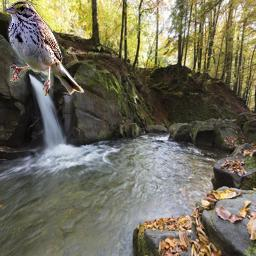Sparrow: (4, 0, 84, 96)
